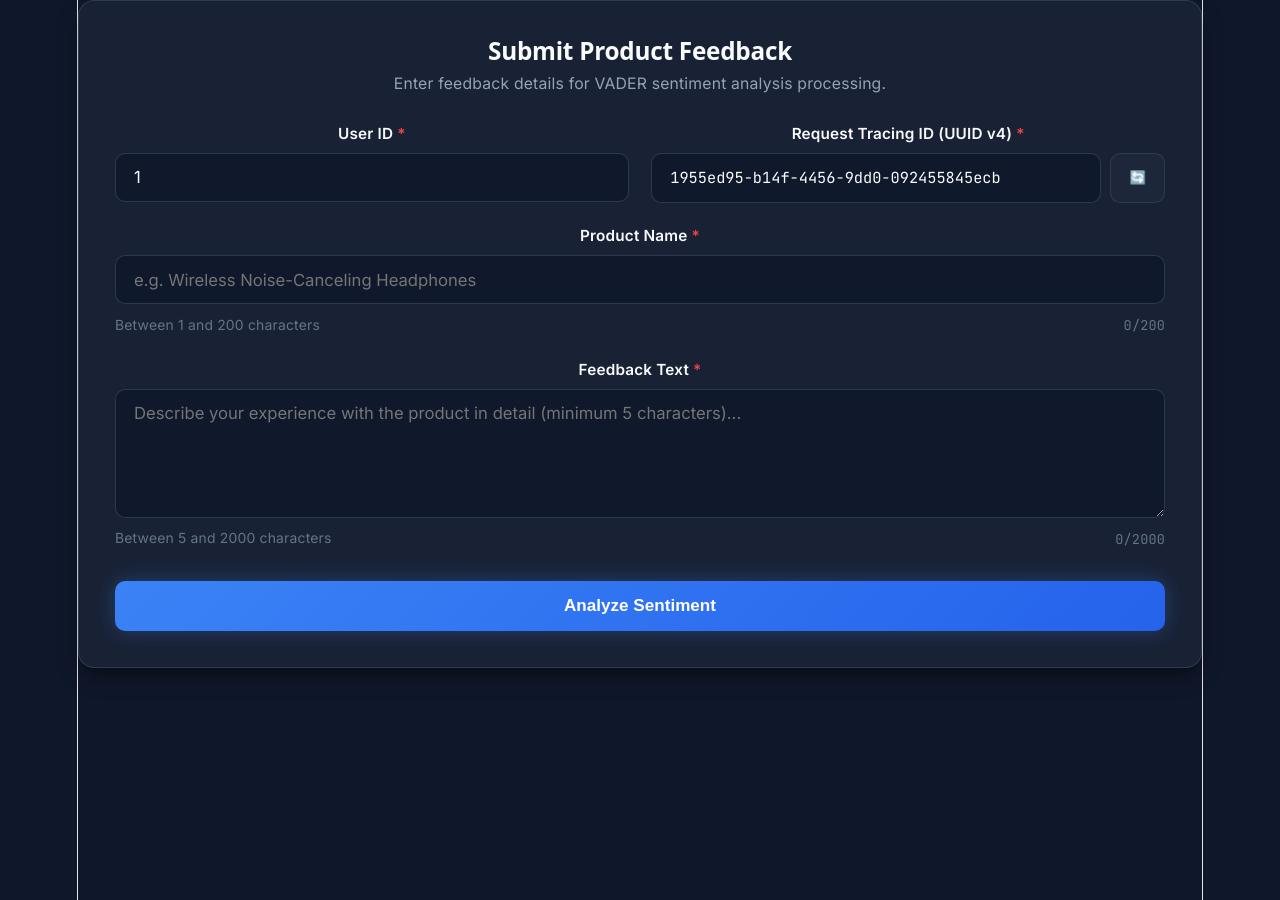
Test: <FeedbackForm /> Component › displays ErrorAlert when API fails with 401 Unauthorized
Replace the text in the number field labelled "User ID *" with "42": {"x": 372, "y": 177} [115, 153, 629, 202]
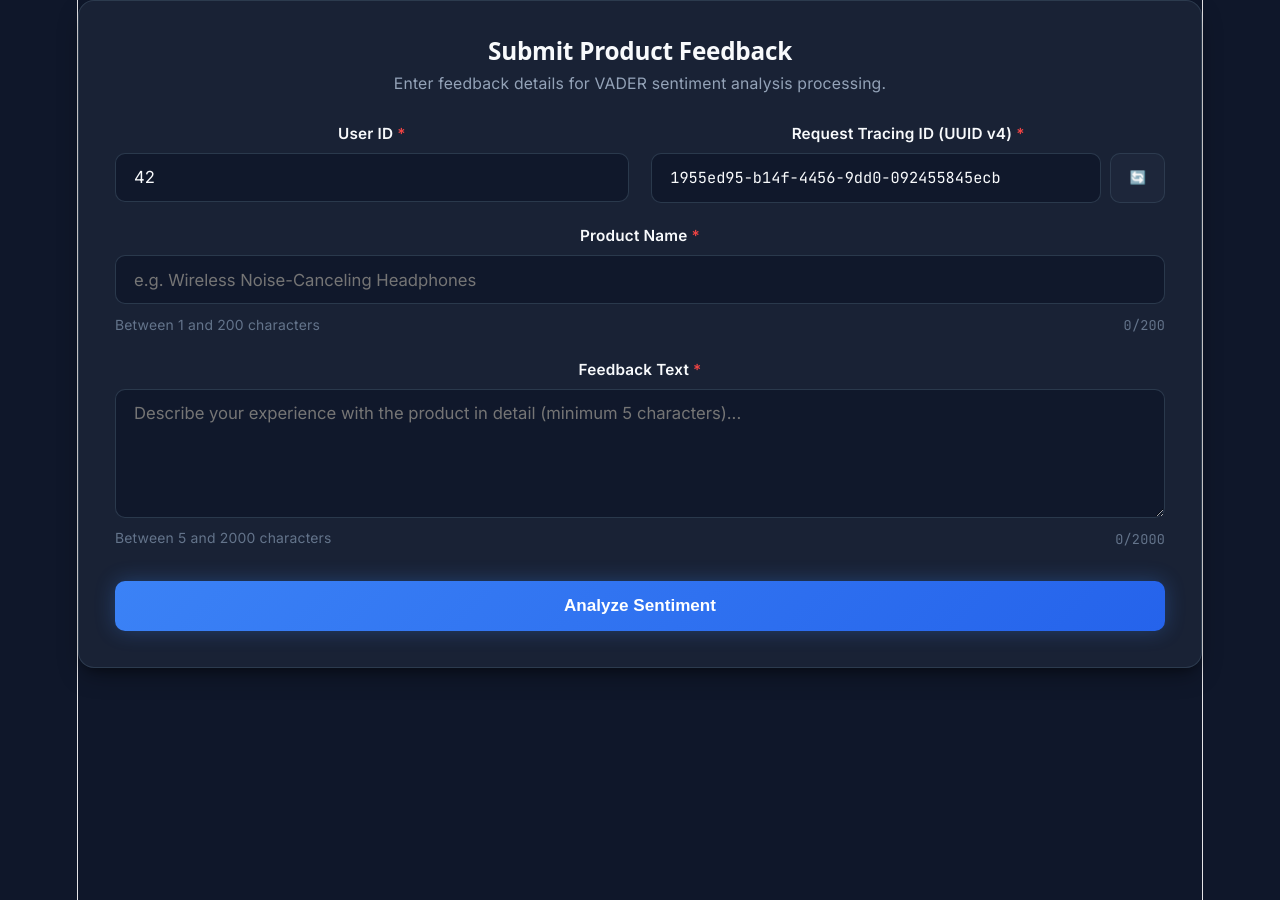
In the field labelled "Product Name *": {"x": 640, "y": 280} [115, 255, 1165, 304], type "Widget Pro"
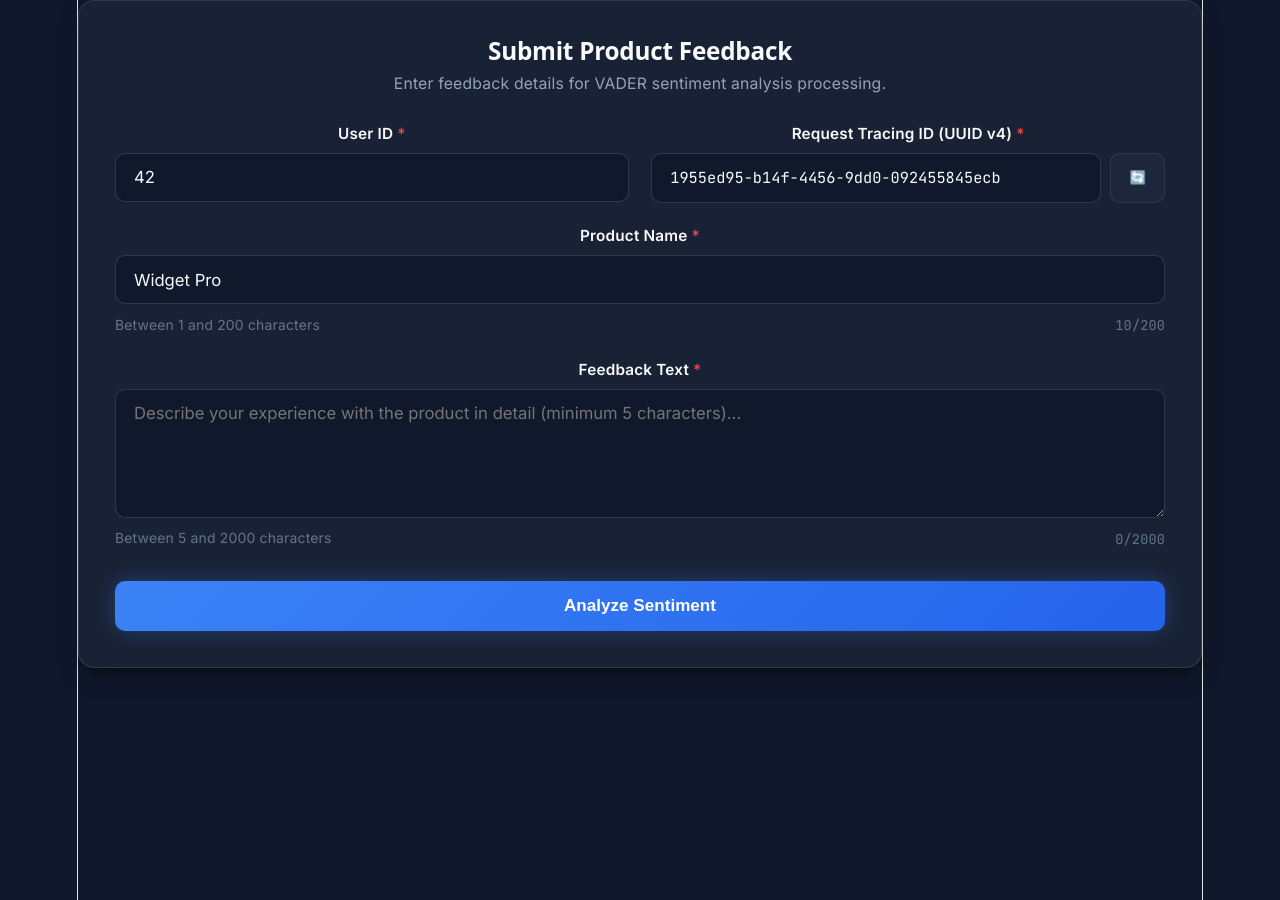
Replace the text in the text box labelled "Feedback Text *" with "Valid feedback text here.": {"x": 640, "y": 453} [115, 389, 1165, 518]
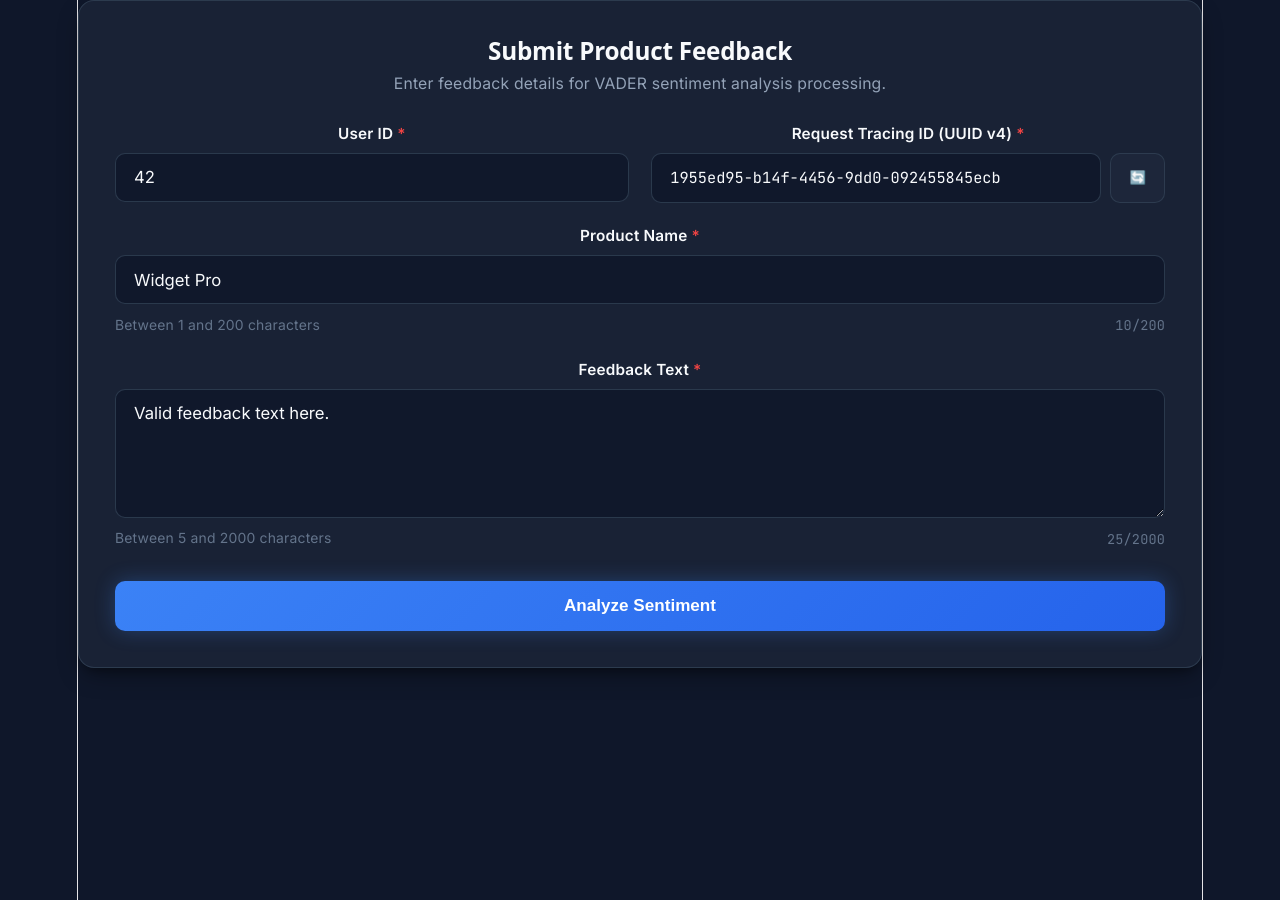
Click the button "Analyze Sentiment": {"x": 640, "y": 606} [115, 581, 1165, 632]
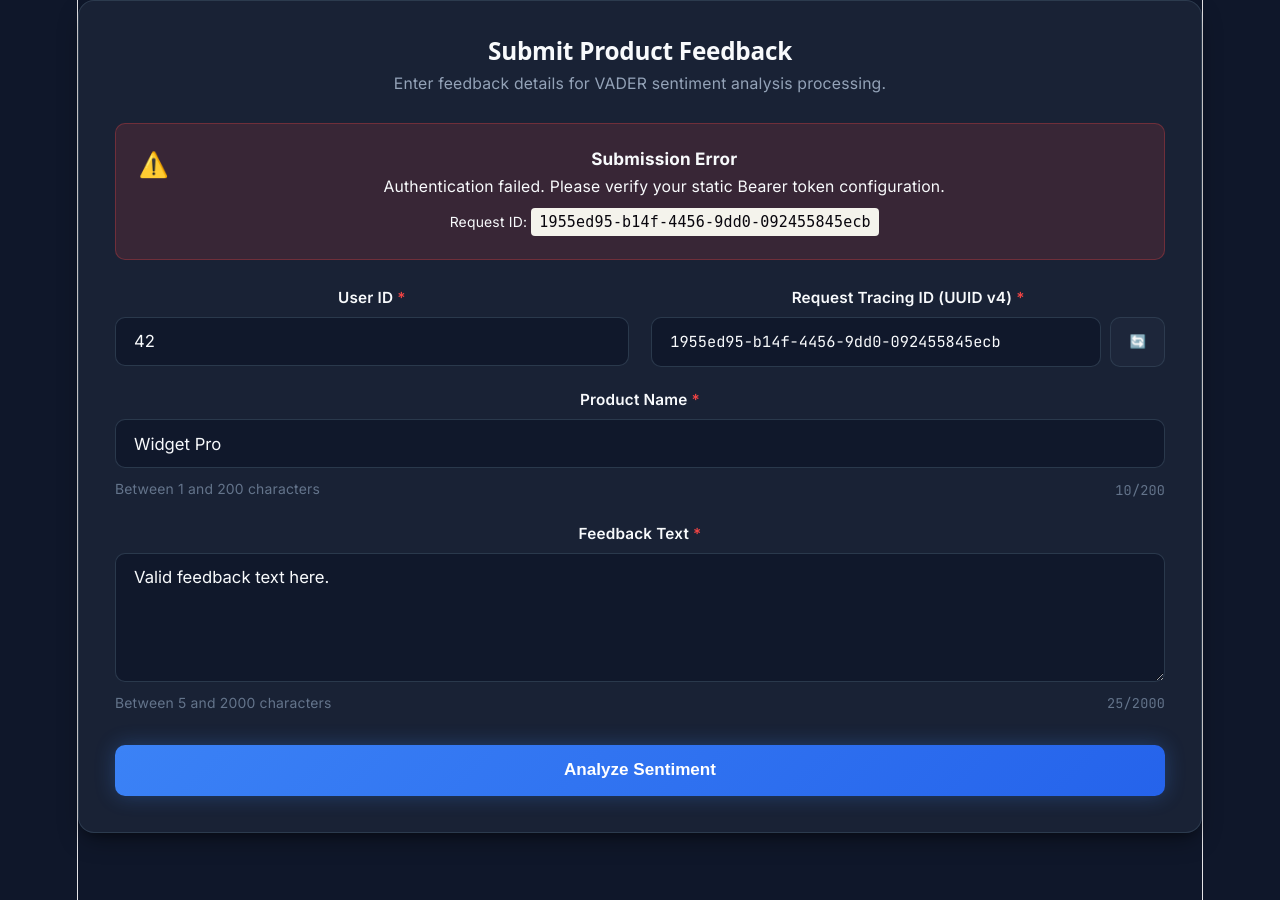
Result: the heading "Submission Error" is shown at [591, 148, 737, 169]
Result: the text "Authentication failed" is shown at [383, 177, 945, 196]
